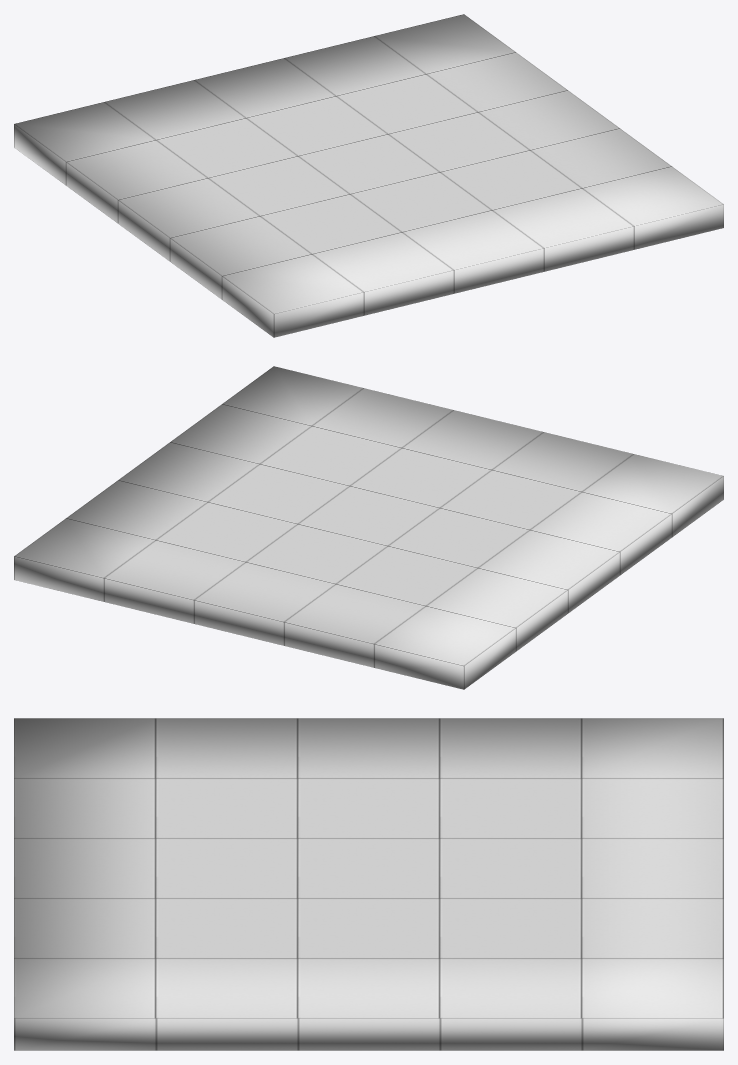
File: Floor-09.fbx
The picture shows the model from 3 angles, top to bottom: view 1: azimuth 30°, elevation 25°; view 2: azimuth 150°, elevation 25°; view 3: azimuth 270°, elevation 25°; orthographic projection. The views are drawn at different scales.
Parts seen in each view (by area): view 1: Floor-09; view 2: Floor-09; view 3: Floor-09.
Part boxes in pixels (box(x1,y1,x2,y2)): Floor-09: box(14, 14, 723, 337); Floor-09: box(14, 366, 723, 689); Floor-09: box(14, 718, 723, 1050).
Size of the model in its own units: 5 by 0.25 by 5.
